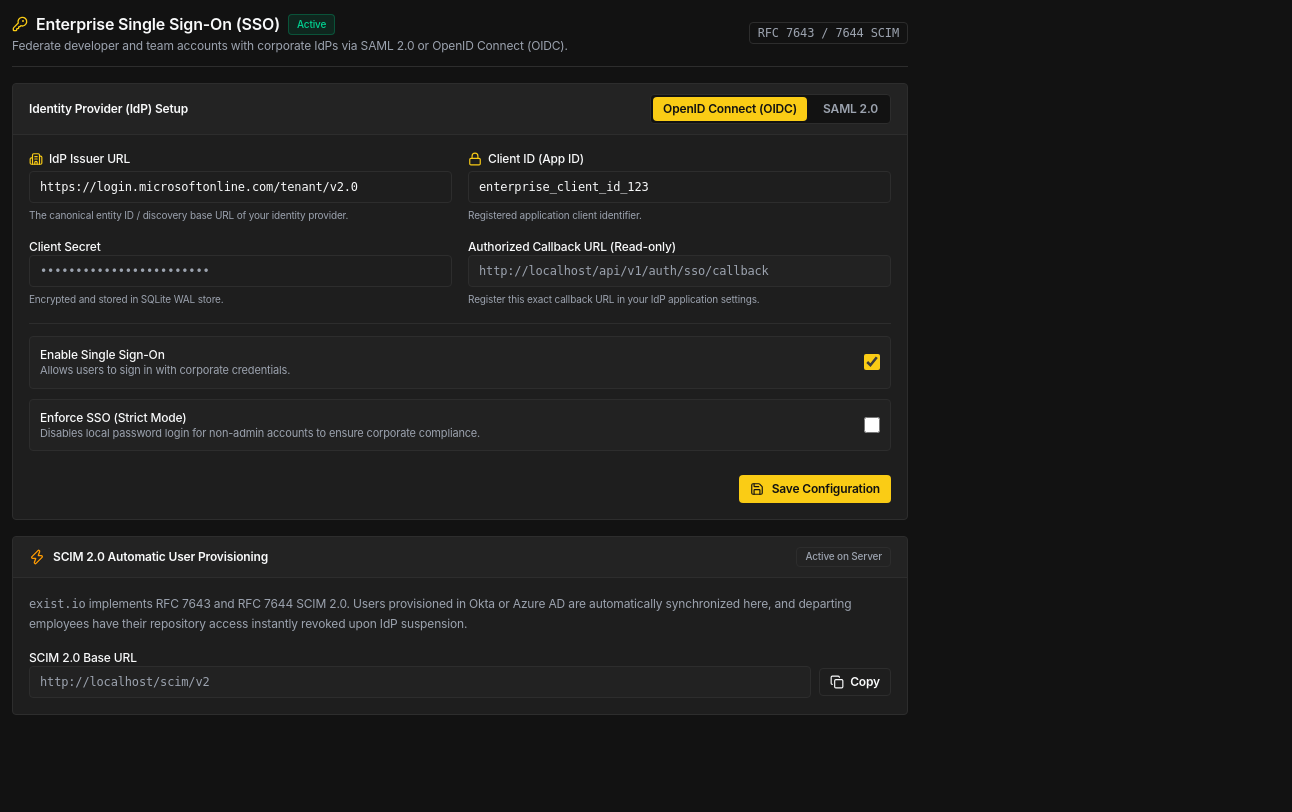
Test case: SsoConfig Admin View › switches between OIDC and SAML provider tabs
This screenshot has width=1292, height=812.
Check: the button "OpenID Connect (OIDC)" is shown, box [653,97,807,121]
Click the button "SAML 2.0": (851, 109) [813,97,888,121]
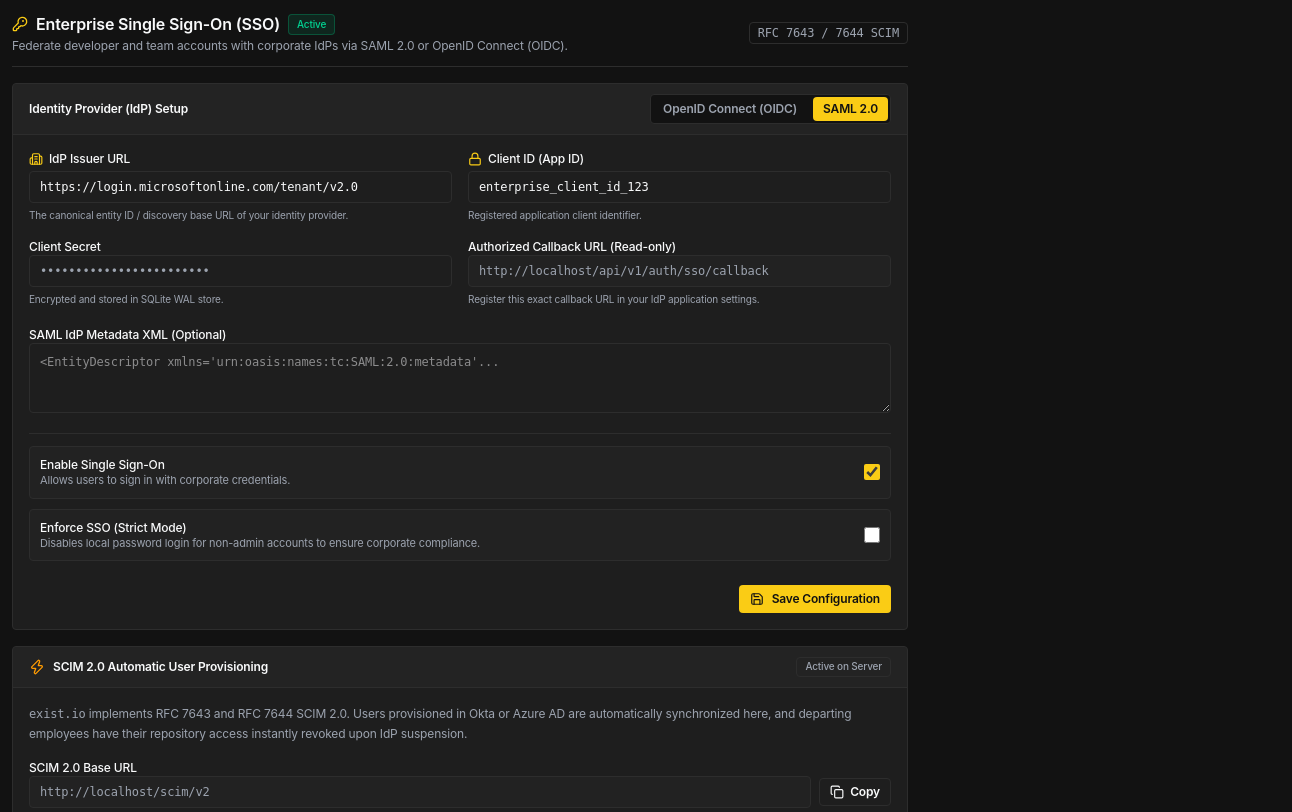
Check: the text "SAML IdP Metadata XML (Optional)" is shown, box [29,327,226,342]
